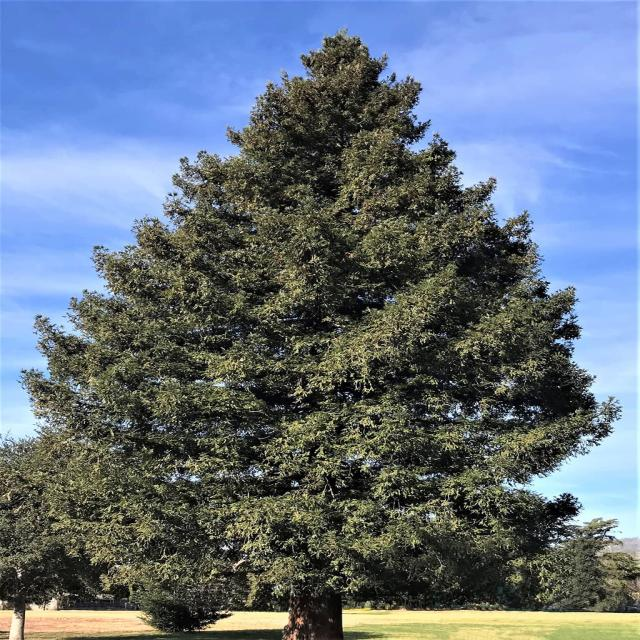Sequoia sempervirens: (19, 32, 619, 638)
